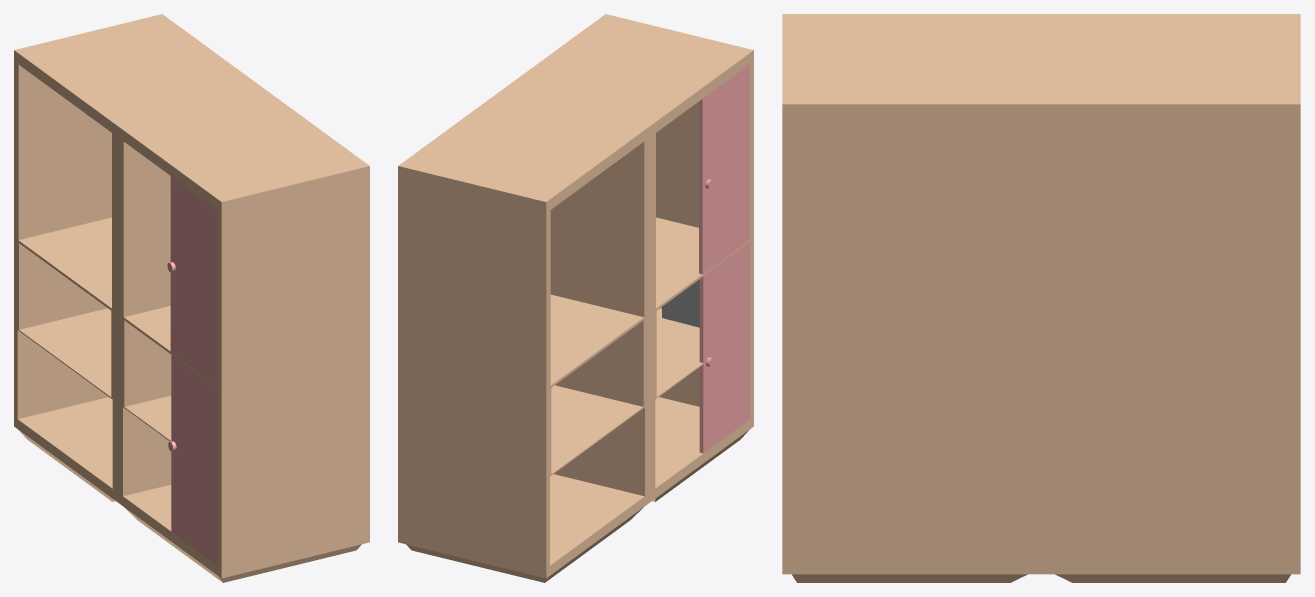
The model's file is Storage_Storage.fbx.
3 views of the same model, side by side, from view 1: azimuth 30°, elevation 25°; view 2: azimuth 150°, elevation 25°; view 3: azimuth 270°, elevation 25° (orthographic). The views are drawn at different scales.
Parts seen in each view (by area): view 1: Office_Storage_Main, Door_8, Door_1; view 2: Office_Storage_Main, Door_1, Door_8, Office_Book1; view 3: Office_Storage_Main.
Part boxes in pixels (x1,y1,x2,y2): Office_Storage_Main: [14, 14, 369, 582]; Door_8: [167, 176, 217, 385]; Door_1: [168, 354, 217, 565]; Office_Storage_Main: [398, 14, 753, 582]; Door_1: [699, 242, 750, 453]; Door_8: [699, 64, 749, 274]; Office_Book1: [662, 279, 699, 327]; Office_Storage_Main: [782, 14, 1300, 582].
Size of the model in its own units: 33.17 by 80.31 by 78.09.
